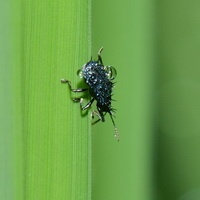insect: (61, 47, 119, 141)
